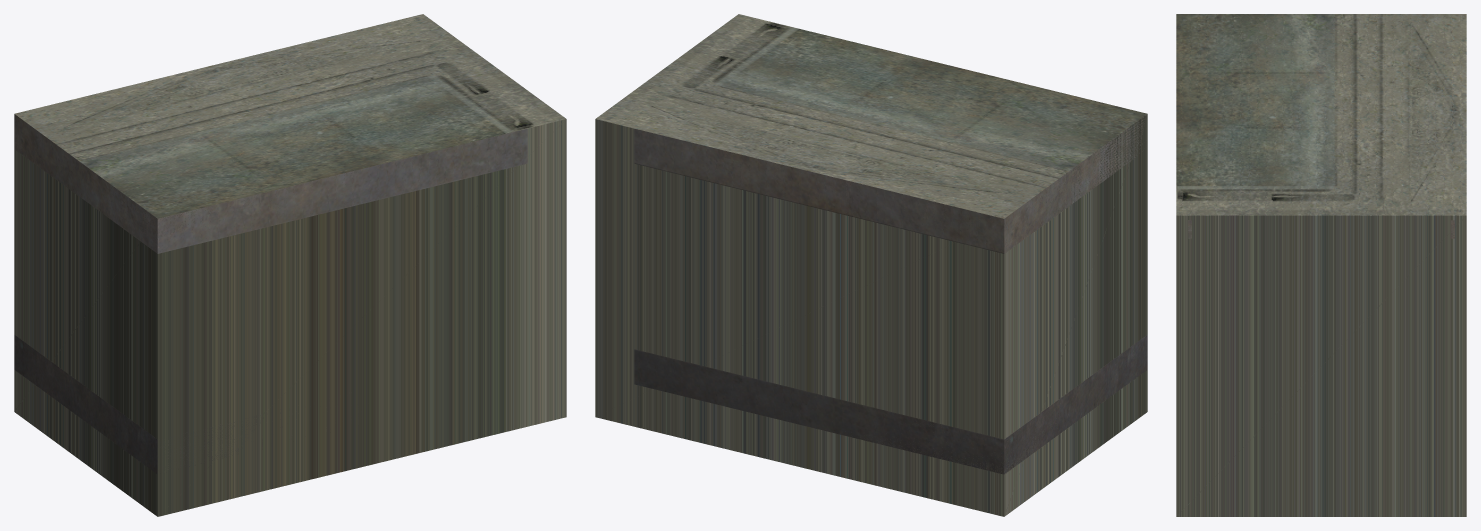
File: rolling_cart.DAE
The picture shows the model from 3 angles, left to right: view 1: azimuth 30°, elevation 25°; view 2: azimuth 150°, elevation 25°; view 3: azimuth 270°, elevation 25°; orthographic projection.
Parts seen in each view (by area): view 1: colbox-01, rolling_cart; view 2: colbox-01, rolling_cart; view 3: colbox-01.
Boxes of the visible parts, bbox=[...] form: colbox-01: bbox=[14, 14, 566, 516]; rolling_cart: bbox=[14, 114, 527, 474]; colbox-01: bbox=[595, 14, 1147, 516]; rolling_cart: bbox=[634, 115, 1147, 474]; colbox-01: bbox=[1176, 14, 1466, 516].
Bounding box in the file's own units: 159 × 96.85 × 111.
